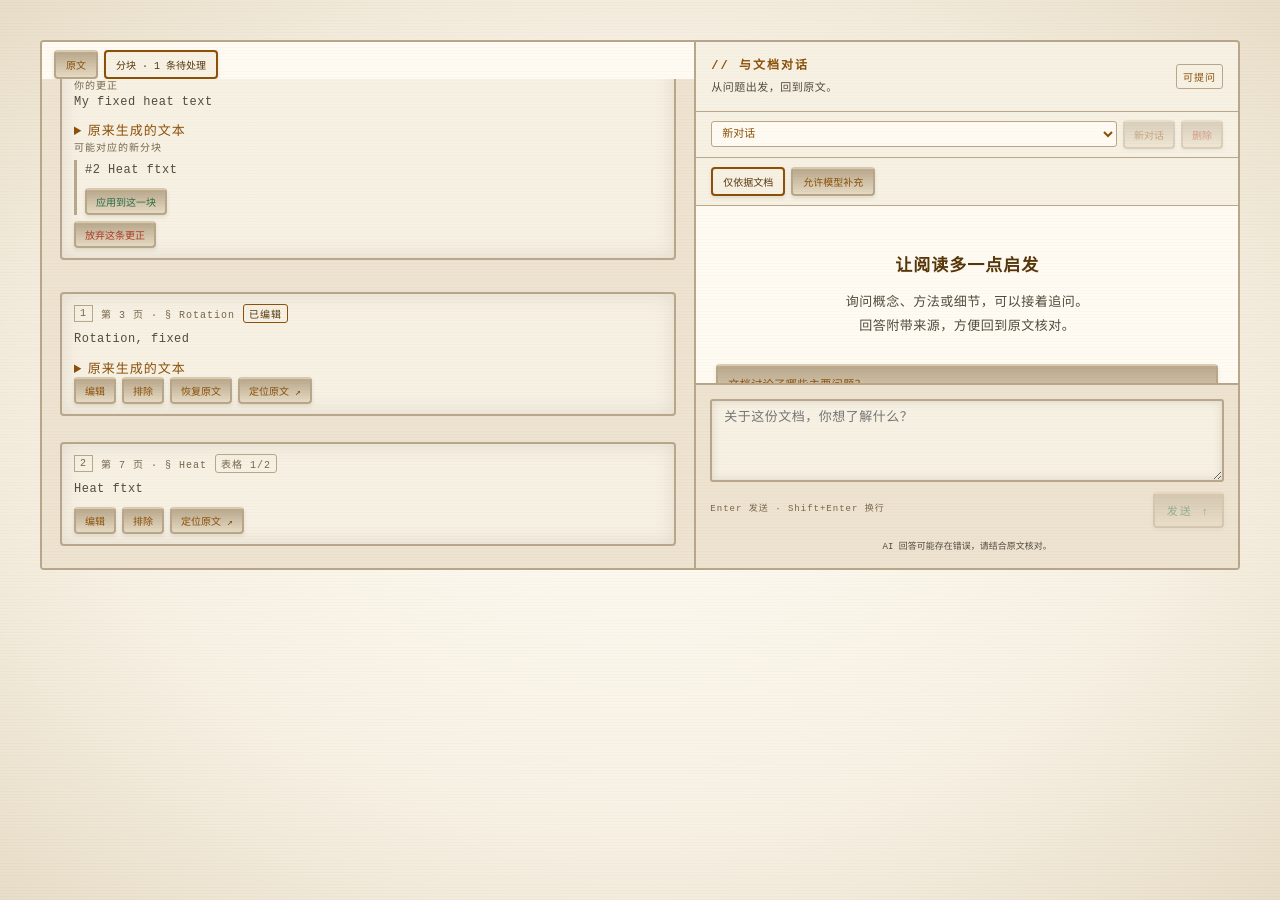
Test: edits, excludes, and restores a chunk
Earlier steps of the test are not shown.
(page scrolled)
Expected: the text "Rotation, fixed" is shown, left=74, top=332, right=190, bottom=346
Expected: the text "已编辑" is shown, left=243, top=304, right=288, bottom=323
Step 1. Click the button "排除" below "第 3 页 · § Rotation" → (143, 390), box left=122, top=377, right=164, bottom=404
(page scrolled)
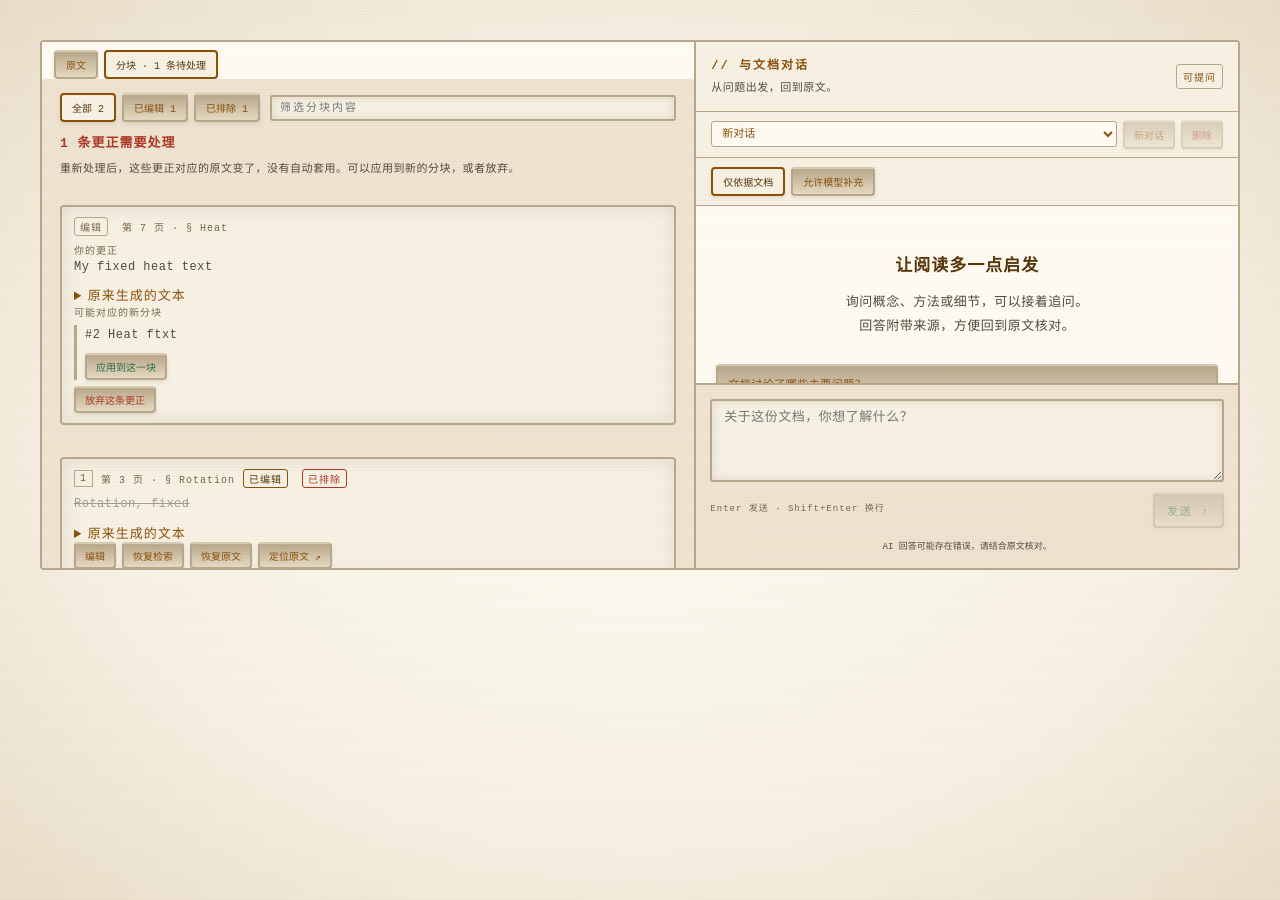
Now the text "已排除" is shown, box left=302, top=469, right=347, bottom=488
Step 2. Click the button "已排除 1" → (227, 108), box left=194, top=93, right=260, bottom=122
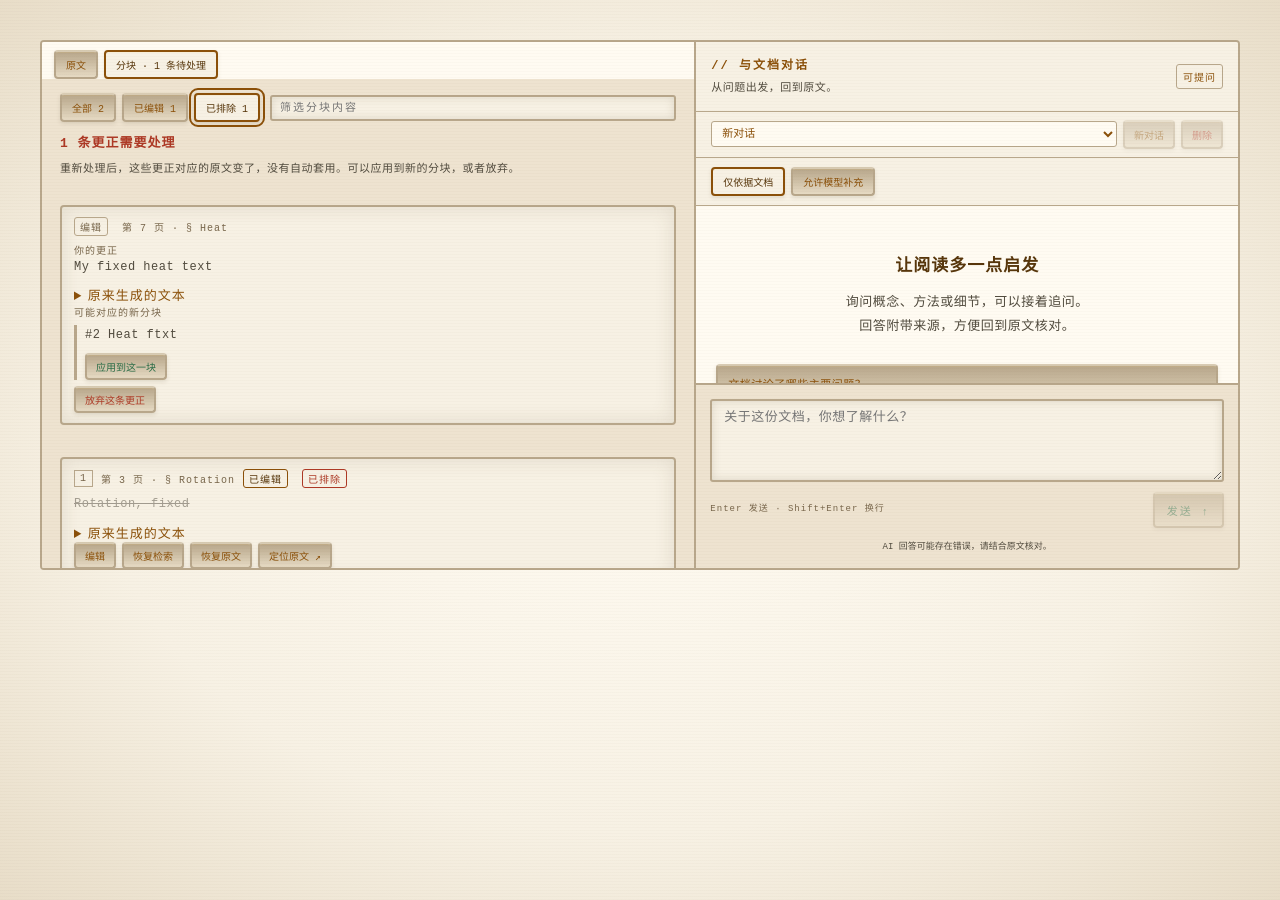
Step 3. Click the button "全部 2" → (88, 108), box left=60, top=93, right=116, bottom=122
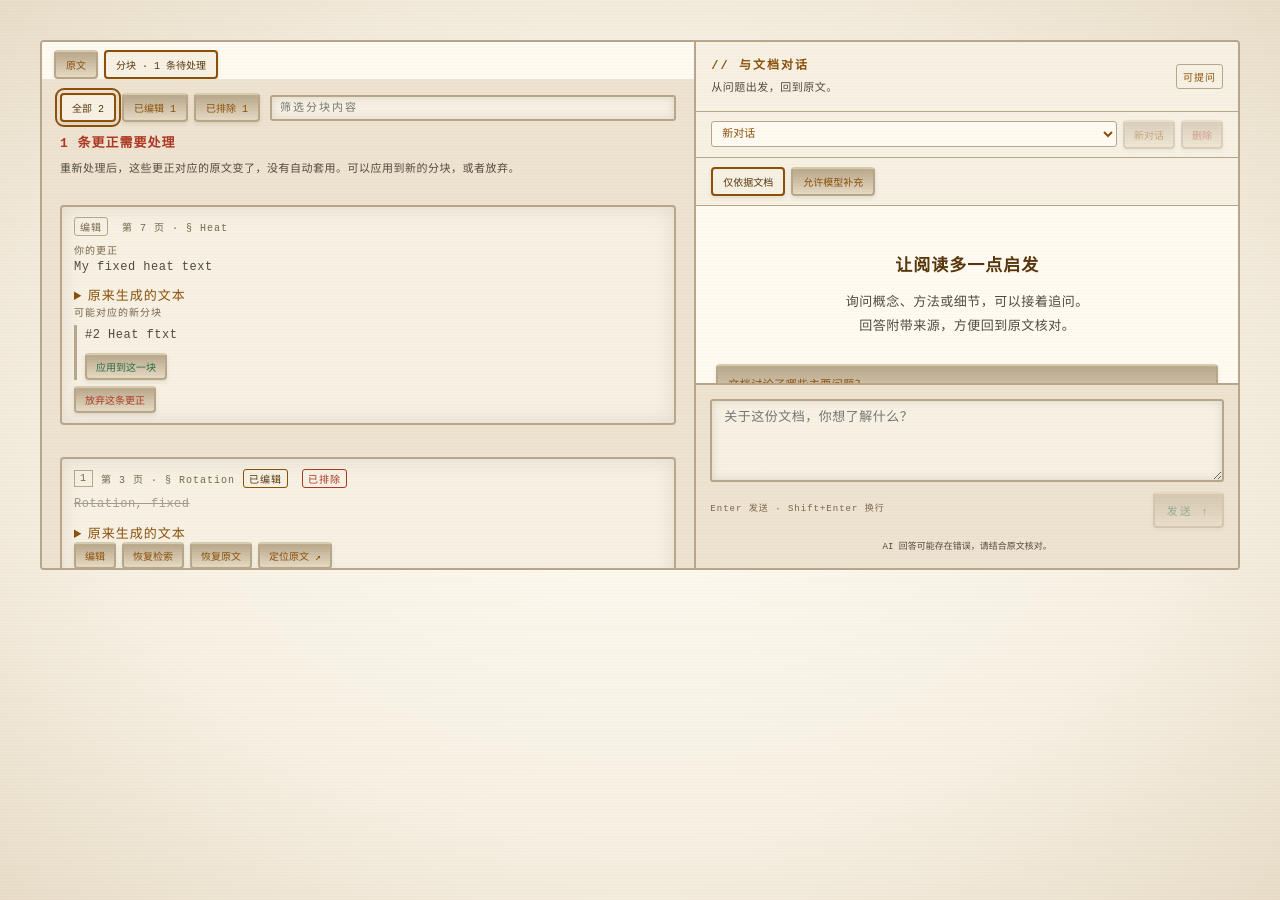
Step 4. Click the button "恢复原文" → (221, 555), box left=190, top=542, right=252, bottom=569
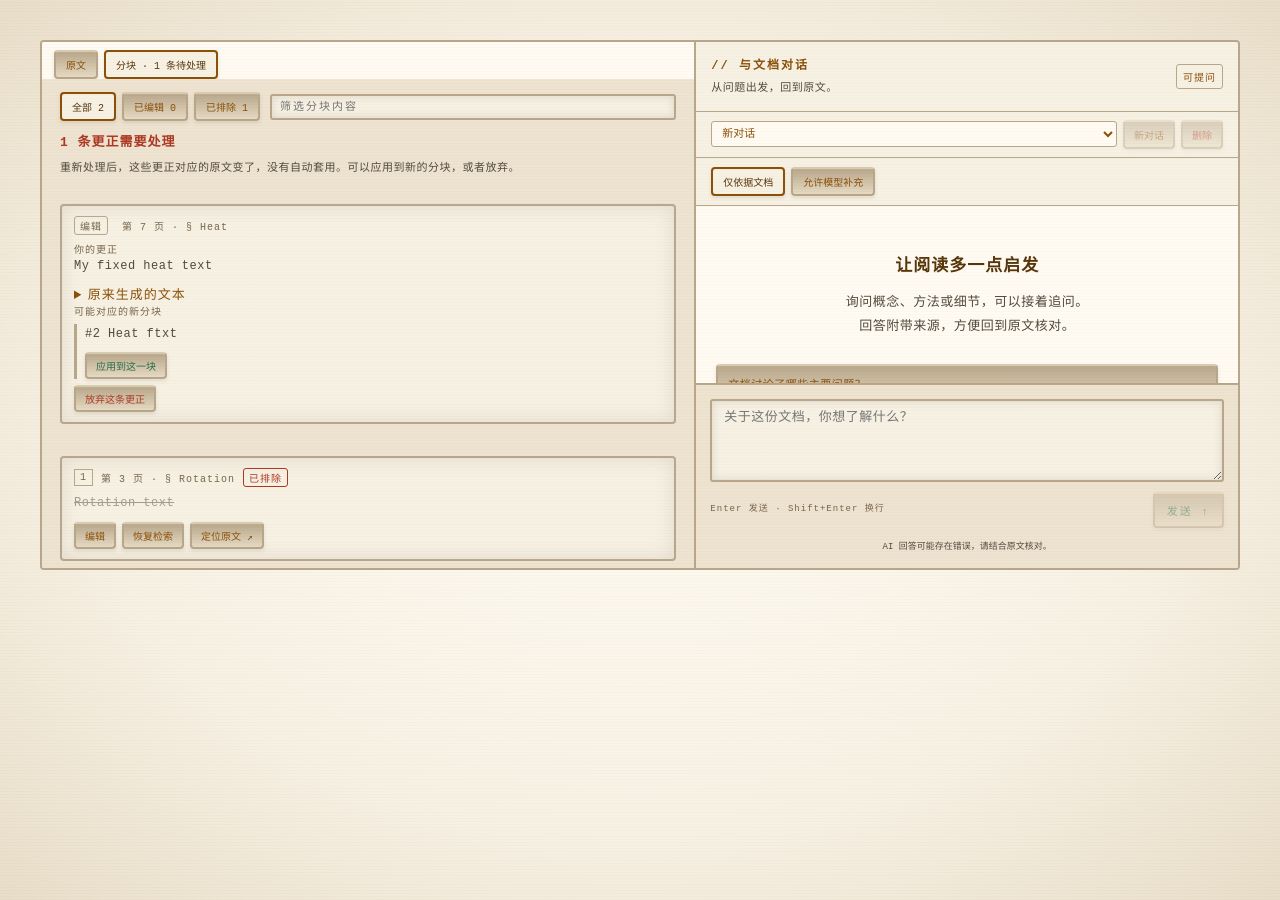
Now the text "Rotation text" is shown, box left=74, top=496, right=174, bottom=510
